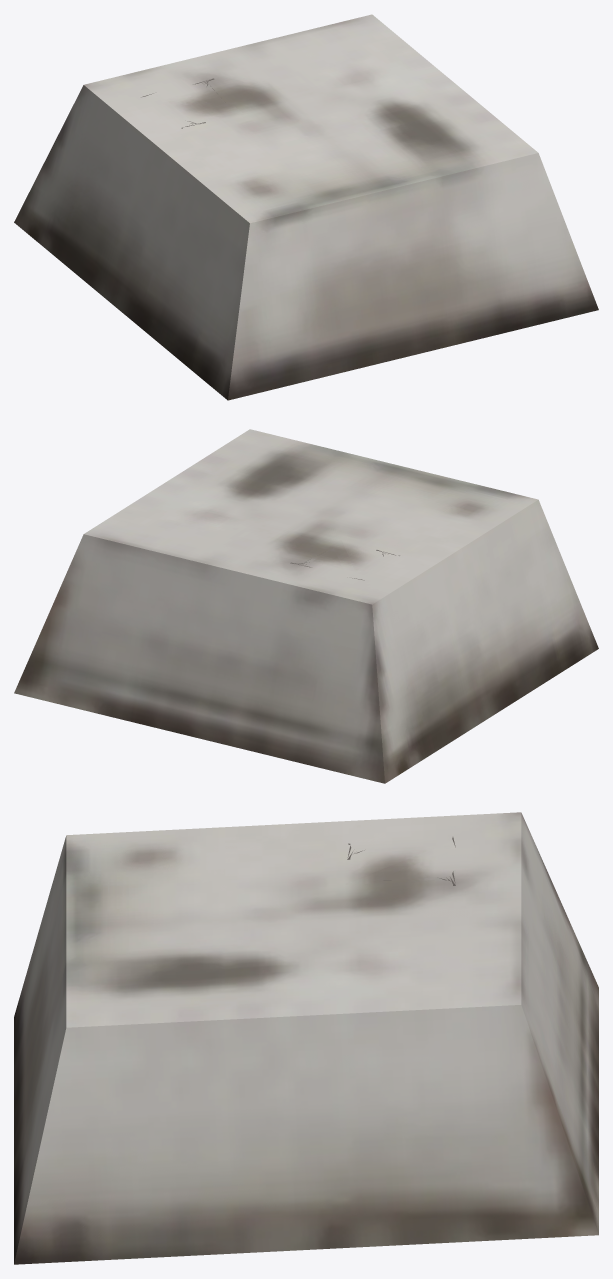
The model's file is link_38__key-44.glb.
The picture shows the model from 3 angles, top to bottom: view 1: azimuth 30°, elevation 25°; view 2: azimuth 150°, elevation 25°; view 3: azimuth 270°, elevation 25°; orthographic projection. The views are drawn at different scales.
Parts seen in each view (by area): view 1: geometry_0; view 2: geometry_0; view 3: geometry_0.
Boxes of the visible parts, x1,y1,x2,y2 form: geometry_0: (14,14,598,400); geometry_0: (14,429,598,783); geometry_0: (14,812,598,1264).
Bounding box in the file's own units: 0.0719 × 0.0315 × 0.0718.
Materials: 1 (1 with a texture image).
